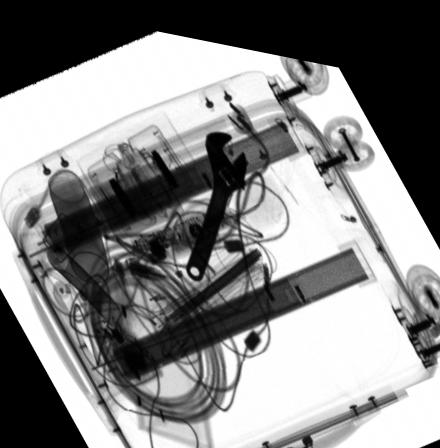Wrench: (186, 121, 248, 273)
